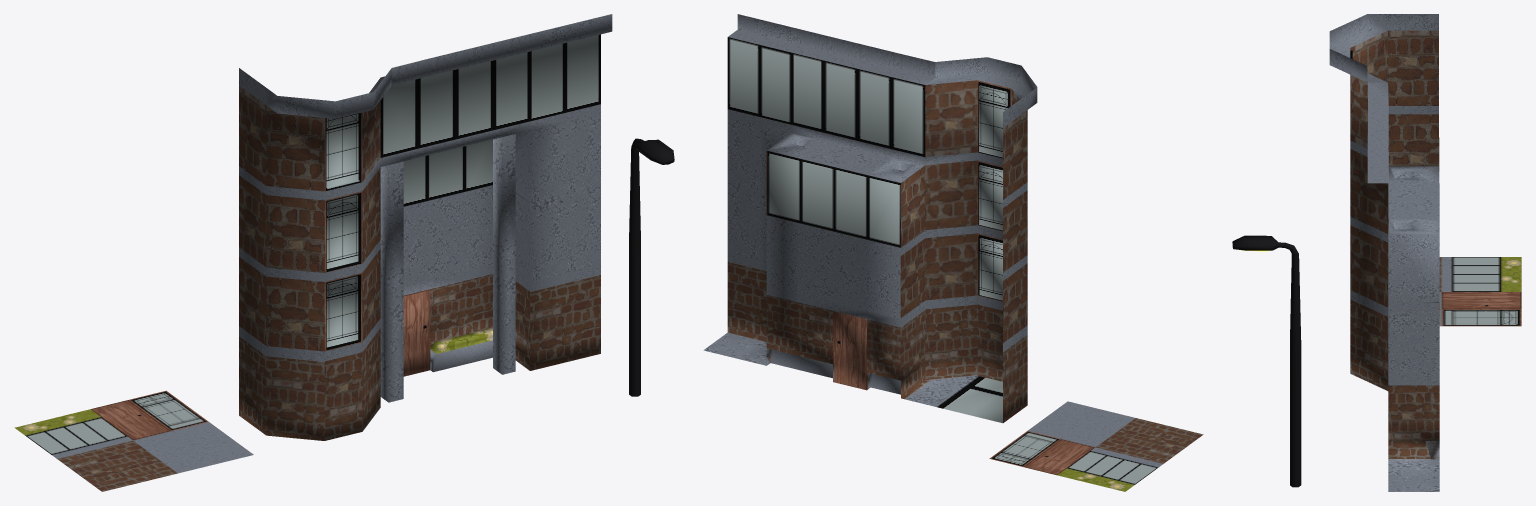
File: TrimSheet_Final.fbx
3 renders of one model, left to right at view 1: azimuth 30°, elevation 25°; view 2: azimuth 150°, elevation 25°; view 3: azimuth 270°, elevation 25°, orthographic. The views are drawn at different scales.
Visible parts, largest first — view 1: BuildingFront, TrimSheet, Streetlamp; view 2: BuildingFront, TrimSheet; view 3: BuildingFront, TrimSheet, Streetlamp.
Part boxes in pixels (box(x1,y1,x2,y2)): BuildingFront: box(239, 14, 612, 440); TrimSheet: box(14, 390, 253, 491); Streetlamp: box(629, 138, 674, 396); BuildingFront: box(703, 14, 1037, 423); TrimSheet: box(989, 401, 1203, 491); BuildingFront: box(1329, 14, 1439, 491); TrimSheet: box(1439, 257, 1521, 326); Streetlamp: box(1232, 235, 1301, 487).
Size of the model in its own units: 678 by 438 by 352.
